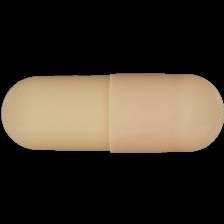0093-1138: (0, 0, 224, 224)
